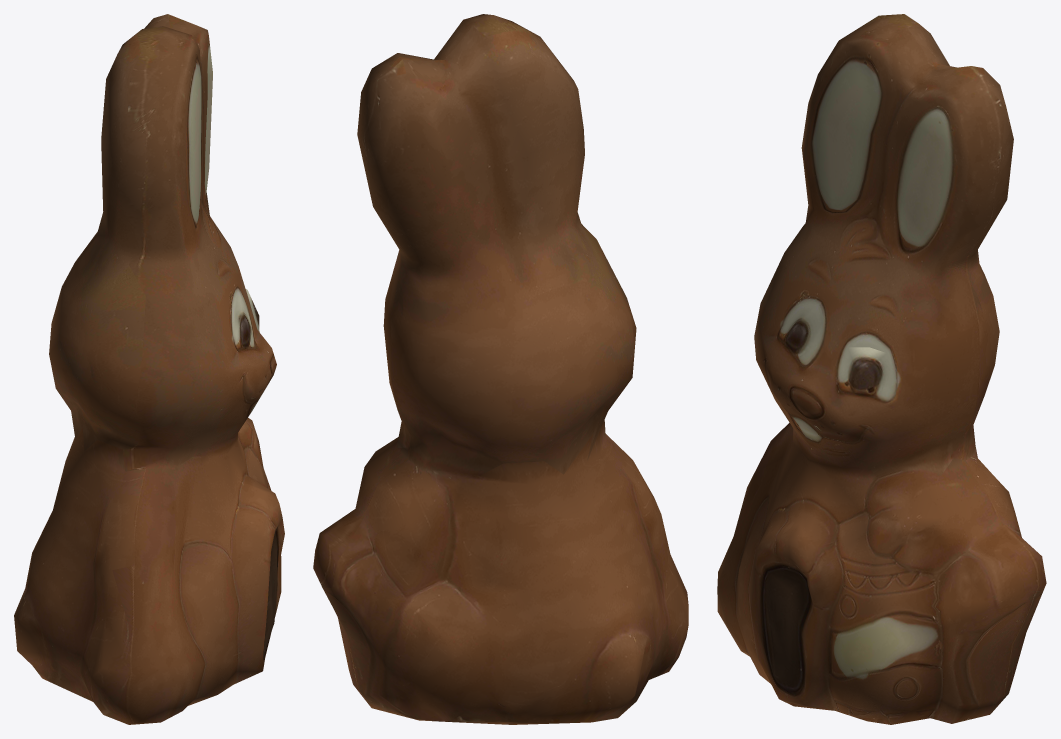
The model's file is durak.fbx.
3 views of the same model, side by side, from view 1: azimuth 30°, elevation 25°; view 2: azimuth 150°, elevation 25°; view 3: azimuth 270°, elevation 25° (orthographic). The views are drawn at different scales.
Parts seen in each view (by area): view 1: durak; view 2: durak; view 3: durak.
Boxes of the visible parts, left/top/right/bottom form: durak: left=14, top=14, right=284, bottom=724; durak: left=313, top=14, right=688, bottom=724; durak: left=717, top=14, right=1046, bottom=724.
Size of the model in its own units: 9.9 by 22.12 by 9.98.
